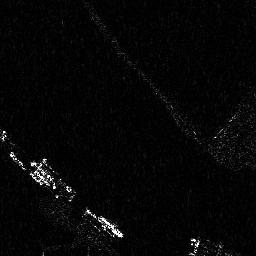ship: (29, 157, 74, 201), (83, 207, 124, 238)
